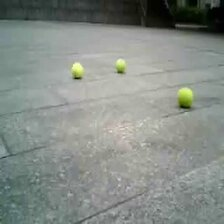tennis: (177, 87, 194, 108), (70, 63, 83, 79), (115, 57, 127, 72)
